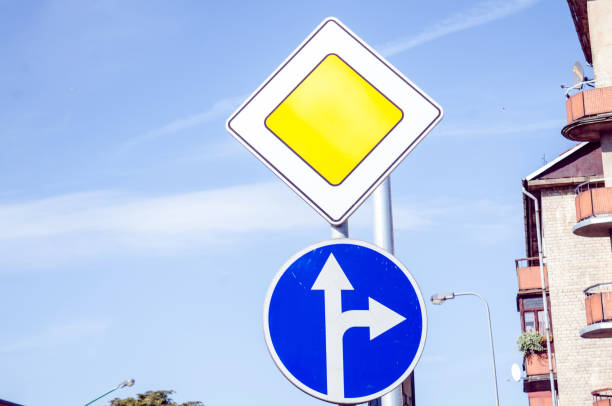ileri_veya_saga: (263, 241, 431, 399)
